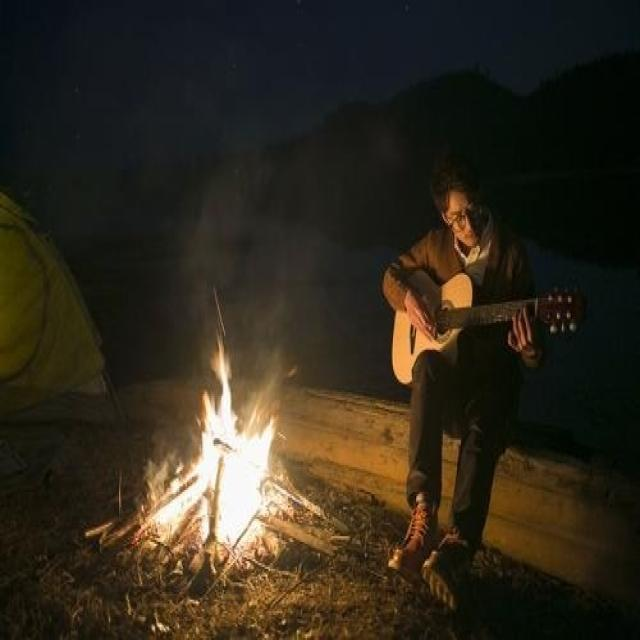Fire: (151, 332, 275, 546)
